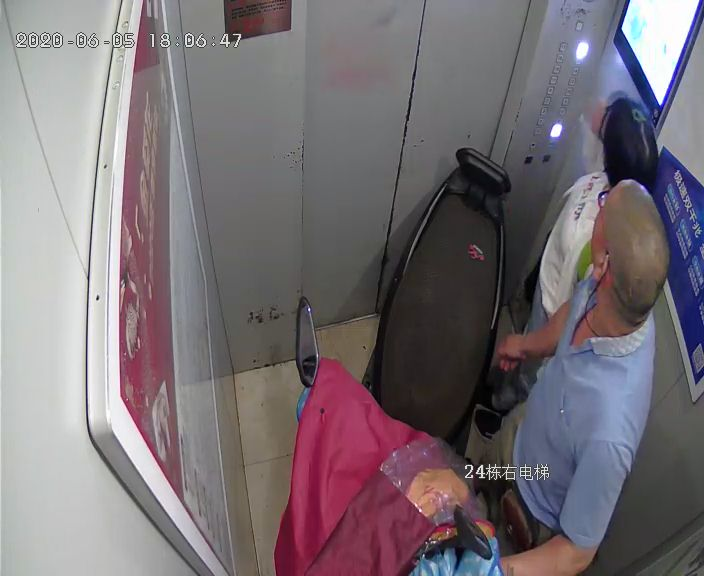Electric-bicycle: (365, 147, 508, 572)
